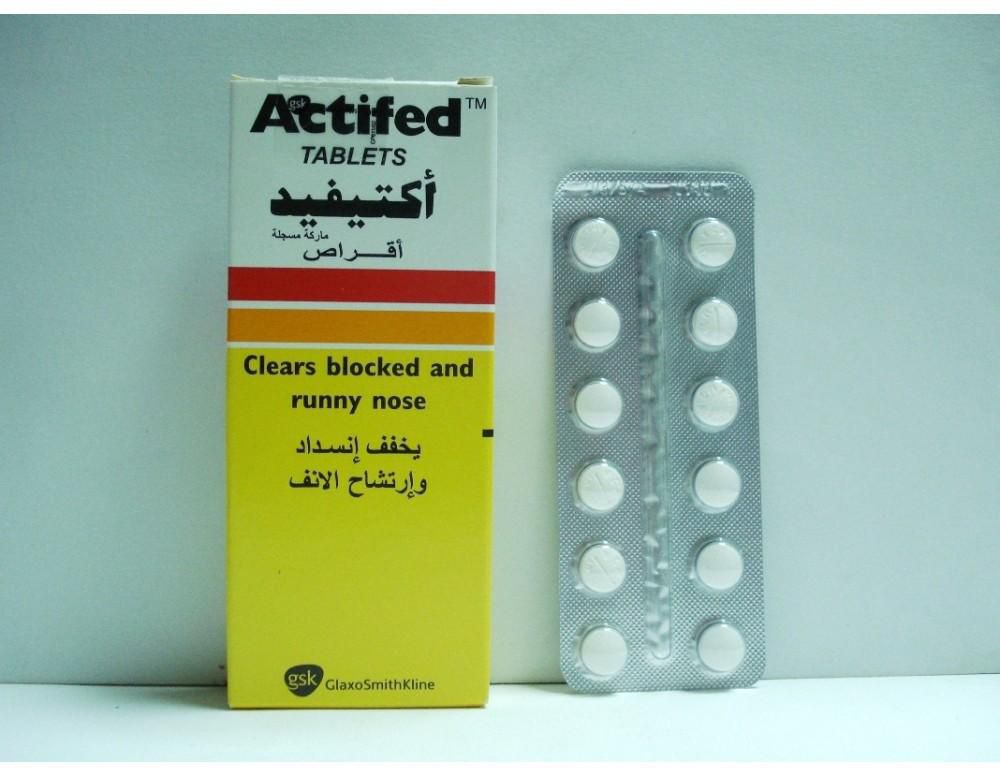Medicine: (218, 64, 504, 724)
